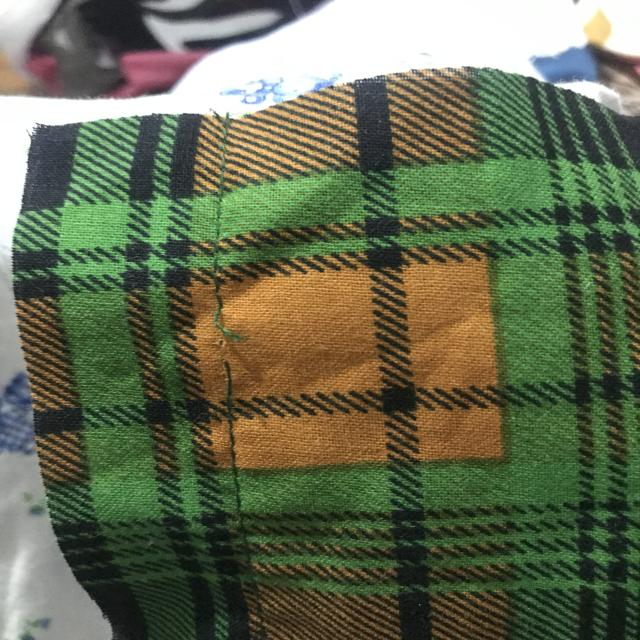broken: (195, 290, 258, 380)
good: (220, 423, 260, 511)
